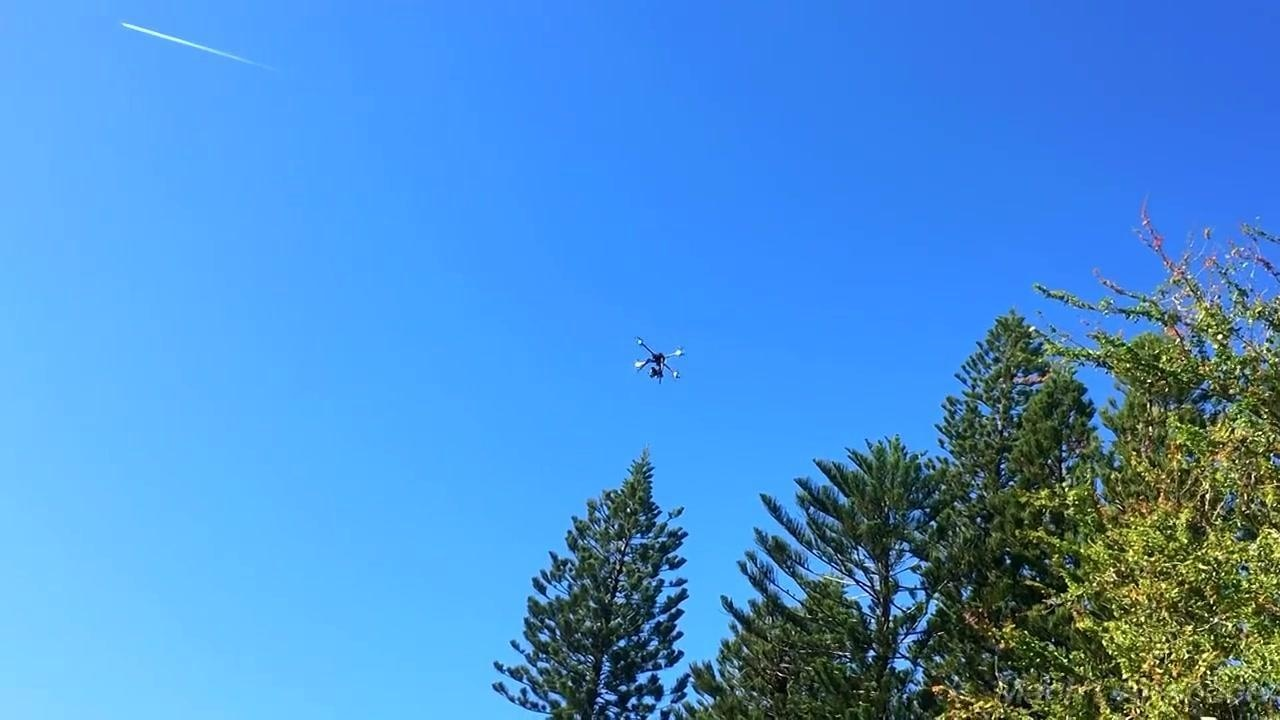UAV: (635, 338, 686, 386)
